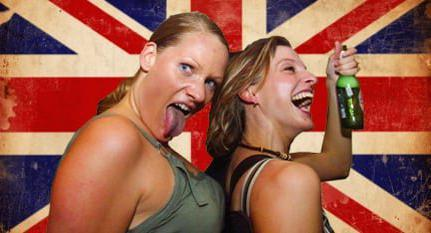Drunk: (158, 37, 220, 136), (273, 44, 316, 129)
